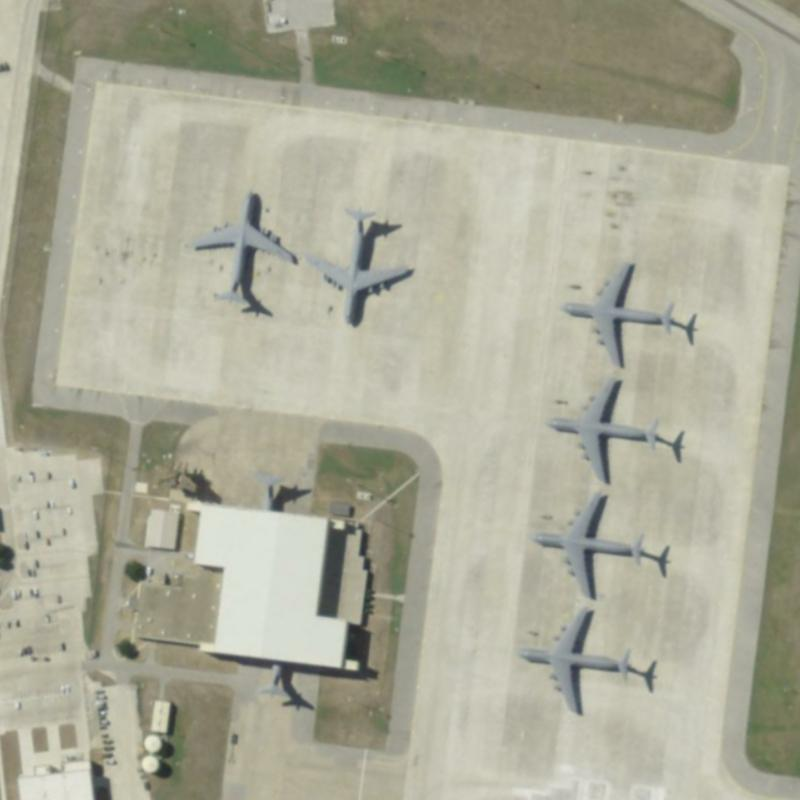A4: (522, 482, 653, 603), (552, 252, 682, 372), (510, 602, 640, 721), (300, 202, 415, 332), (538, 371, 664, 486), (190, 179, 299, 311)
